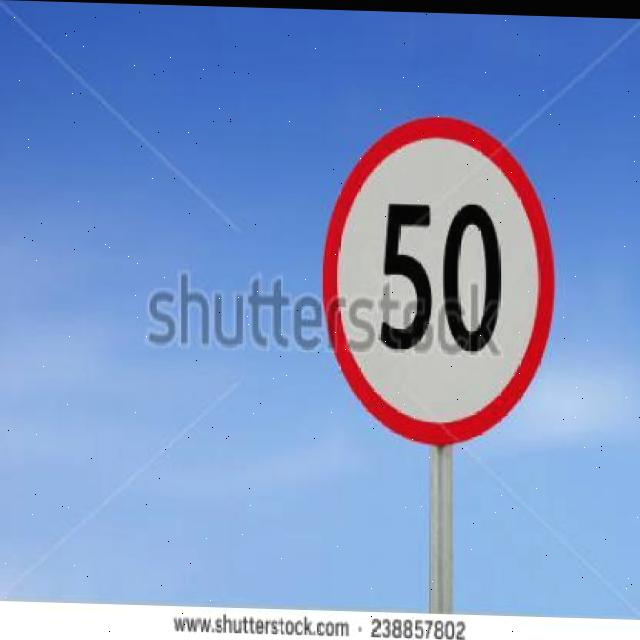Speed limit 50: (318, 107, 559, 449)
